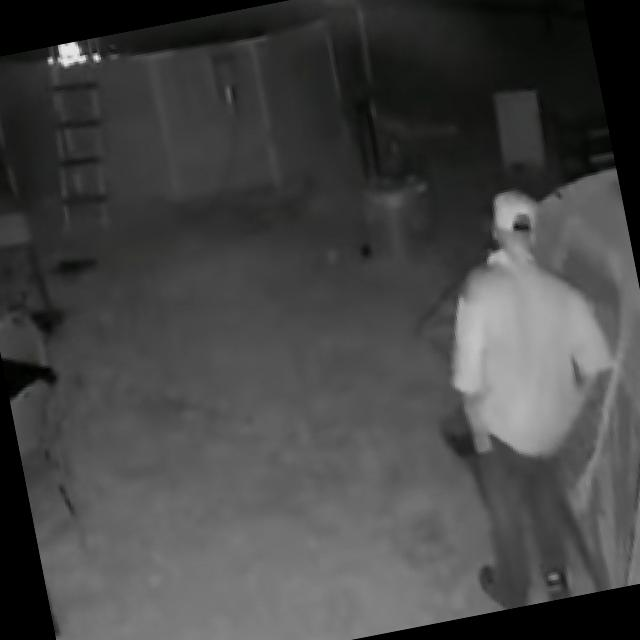person: (411, 178, 640, 613)
